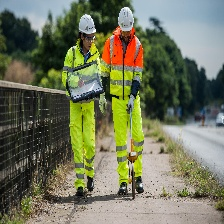helmet: (113, 6, 140, 35), (75, 12, 97, 38)
person: (102, 1, 150, 189), (59, 8, 104, 198)
vest: (105, 29, 144, 107), (63, 38, 102, 108)
